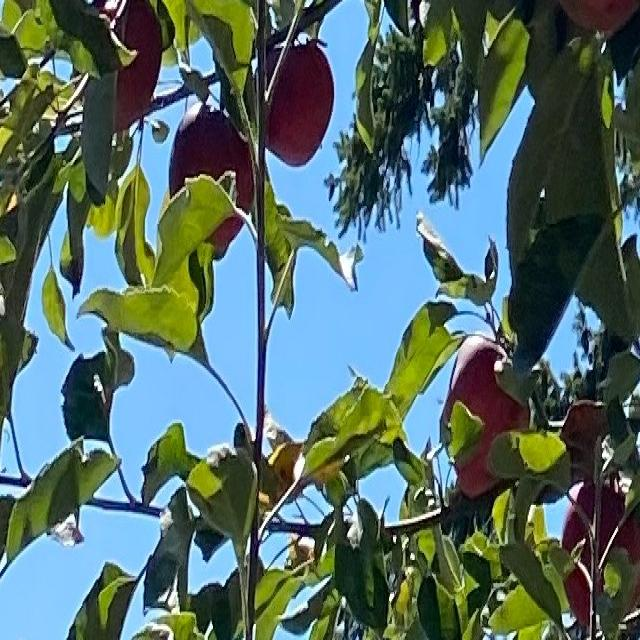100-_ripeness: (170, 103, 254, 260), (448, 338, 530, 494), (74, 0, 164, 130), (565, 484, 640, 624), (258, 45, 334, 167), (563, 0, 636, 34)
